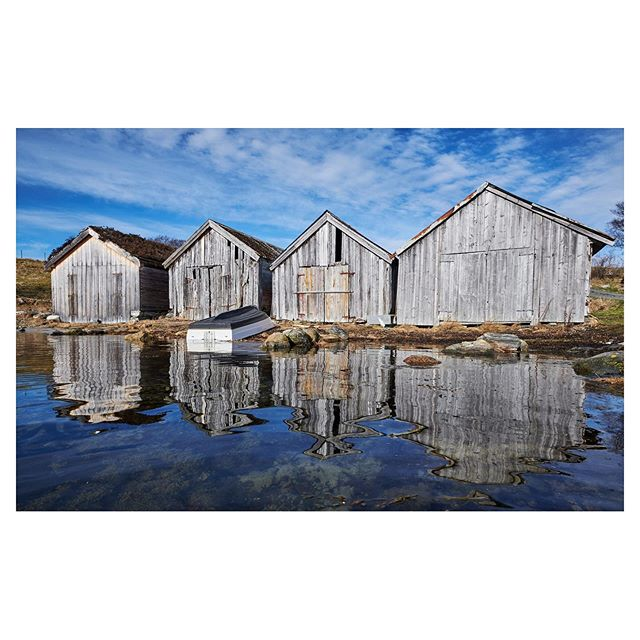boat: (182, 297, 276, 365)
building: (392, 185, 601, 330), (270, 216, 399, 322), (41, 224, 160, 322), (163, 216, 270, 321)
river: (29, 339, 620, 506)
sky: (14, 125, 618, 211)
